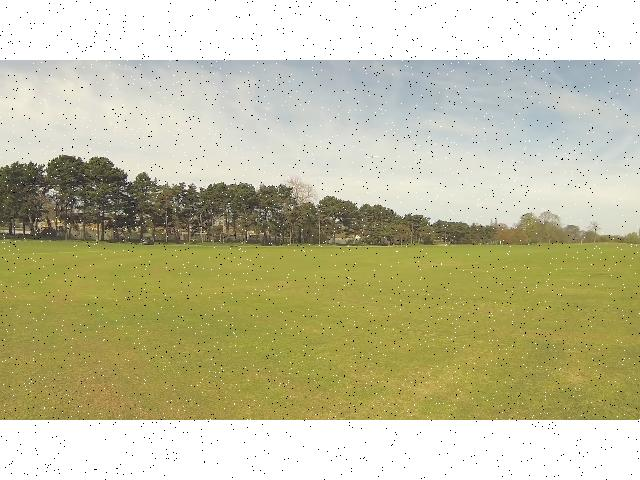Anti-Drone: (355, 152, 387, 163)
